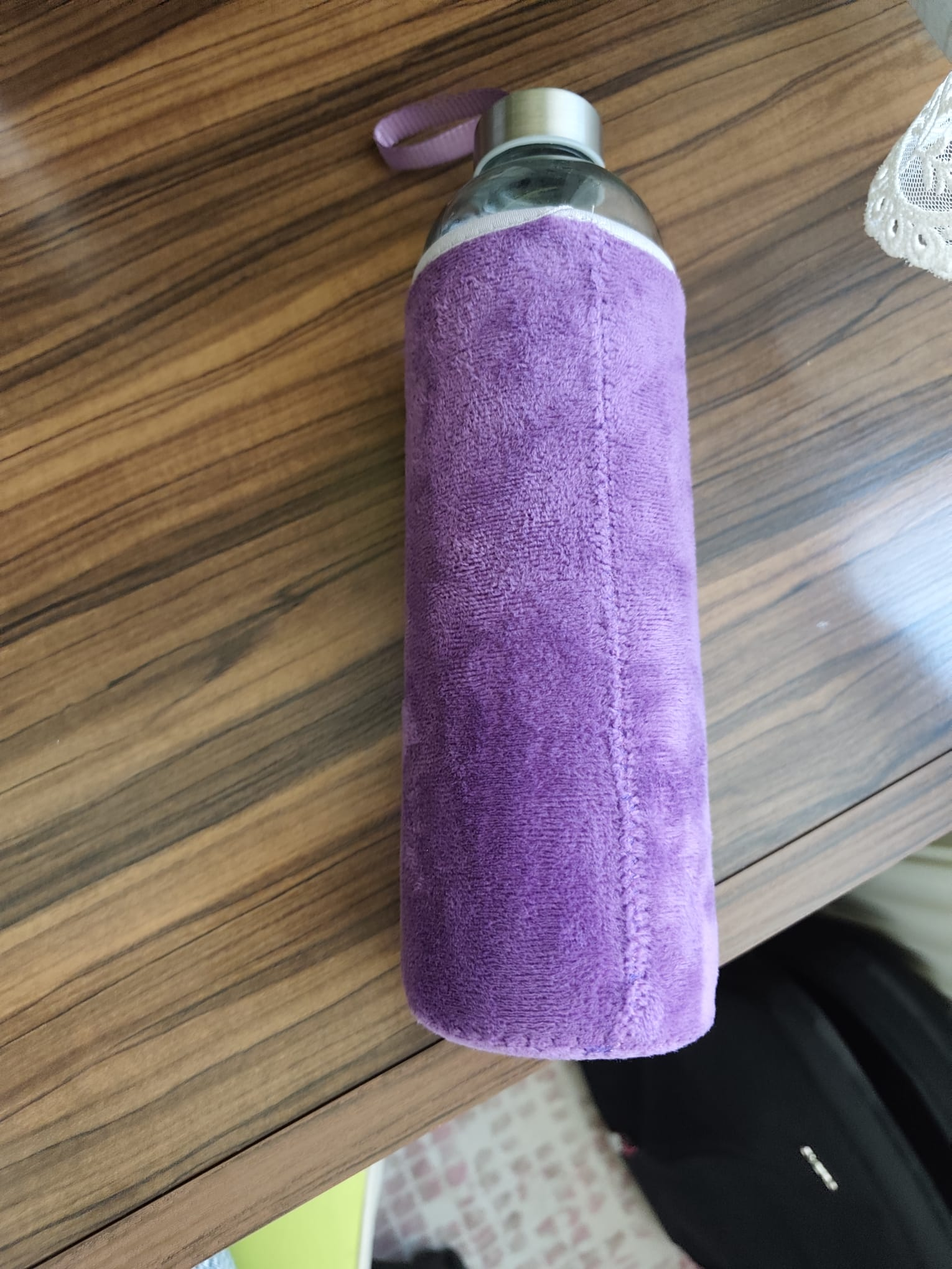su_sisesi: (358, 63, 732, 1063)
